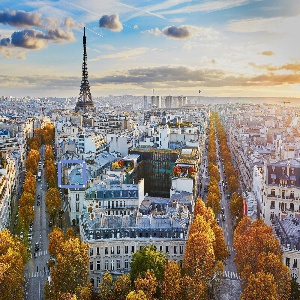square: (56, 160, 87, 189)
